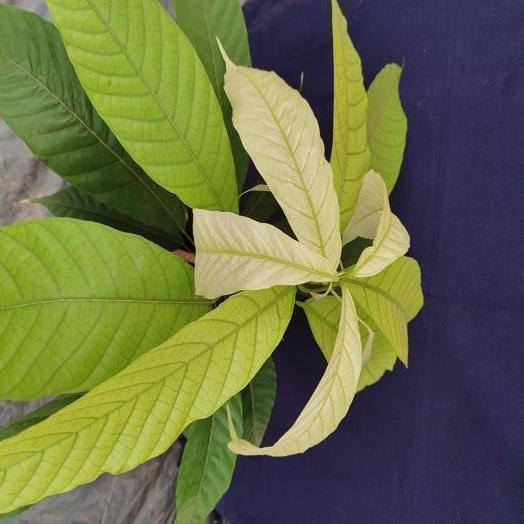Healthy Leaf: (0, 4, 183, 241), (174, 0, 250, 191), (174, 394, 242, 523)
Iron: (0, 286, 294, 510), (49, 0, 237, 210), (0, 218, 209, 399), (225, 59, 340, 265), (228, 285, 362, 456), (194, 209, 339, 298), (330, 0, 370, 228), (346, 257, 422, 365), (343, 170, 408, 276), (367, 64, 406, 192)
